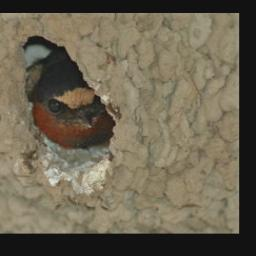Swallow: (31, 48, 116, 149)
